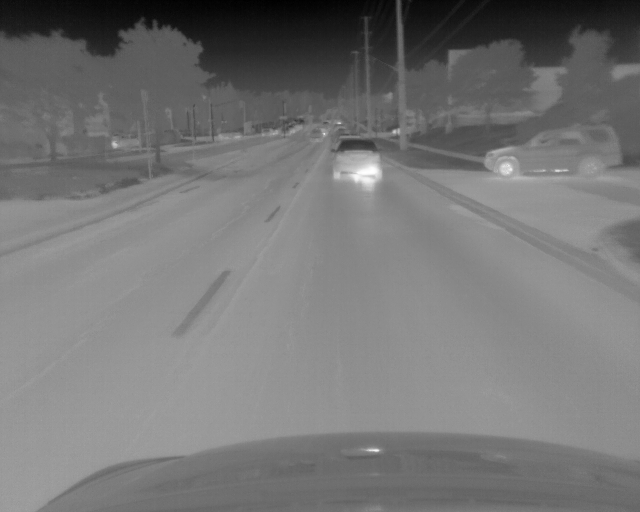car: (481, 127, 624, 179), (331, 137, 382, 185)
